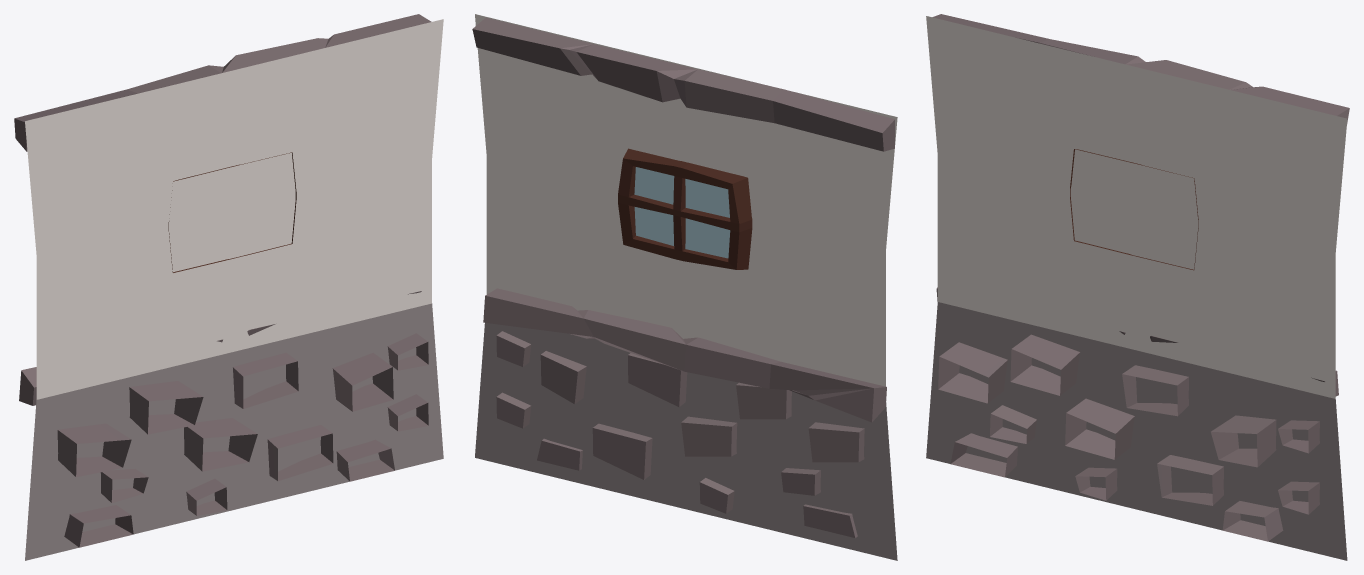
Rendered from SM_L_R_Home_Side_2.fbx.
The picture shows the model from 3 angles, left to right: view 1: azimuth 30°, elevation 25°; view 2: azimuth 150°, elevation 25°; view 3: azimuth 330°, elevation 25°; orthographic projection.
Visible parts, largest first — view 1: SM_L_R_Home_Side_2; view 2: SM_L_R_Home_Side_2; view 3: SM_L_R_Home_Side_2.
Boxes of the visible parts, x1,y1,x2,y2 form: SM_L_R_Home_Side_2: (14,14,443,560); SM_L_R_Home_Side_2: (472,14,897,560); SM_L_R_Home_Side_2: (926,14,1349,560).
Bounding box in the file's own units: 3 × 3.01 × 0.4699.
